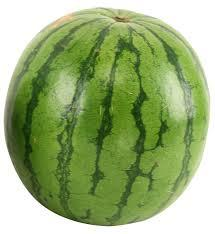non-mango: (3, 6, 210, 226)
